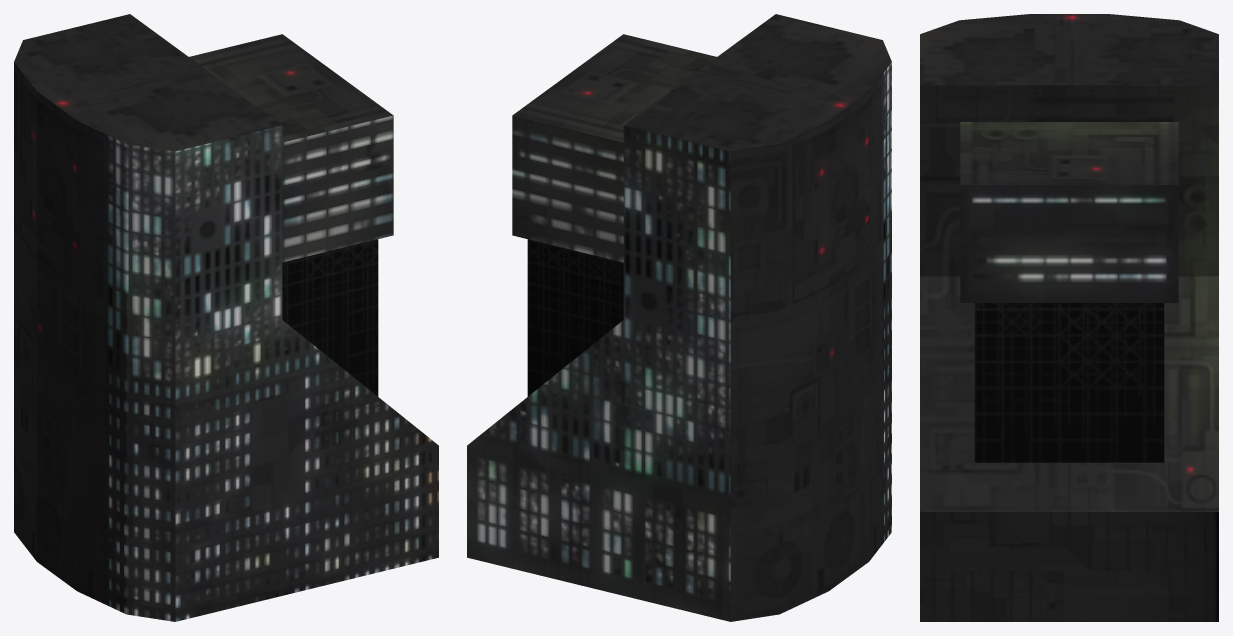
The model's file is scifi_building_3.obj.
3 views of the same model, side by side, from view 1: azimuth 30°, elevation 25°; view 2: azimuth 150°, elevation 25°; view 3: azimuth 270°, elevation 25° (orthographic).
Parts seen in each view (by area): view 1: building_3; view 2: building_3; view 3: building_3.
Part boxes in pixels (x1,y1,x2,y2): building_3: (14,14,438,621); building_3: (467,14,891,621); building_3: (920,14,1218,621).
Size of the model in its own units: 49.87 by 73.3 by 42.99.
